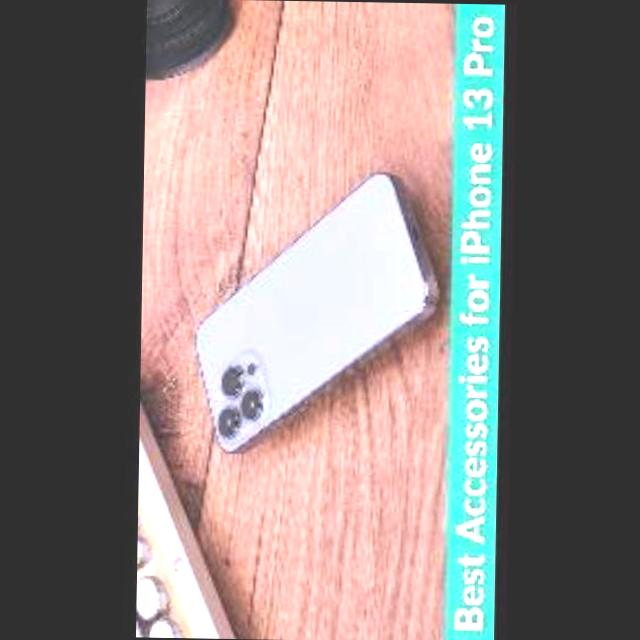lens_back: (218, 363, 244, 397), (214, 406, 243, 436), (238, 388, 264, 420)
phone: (192, 161, 440, 453)
